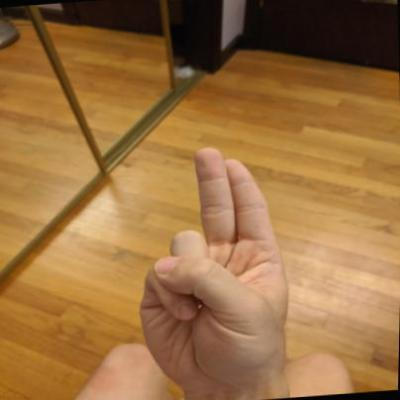hand: (125, 137, 300, 397)
